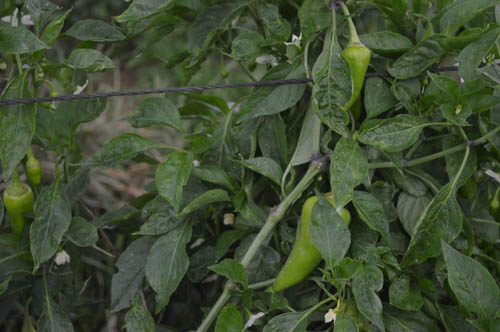ChiliPepper: (275, 196, 351, 285), (337, 48, 371, 107), (4, 191, 33, 238)
